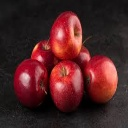apple: (13, 59, 48, 106)
